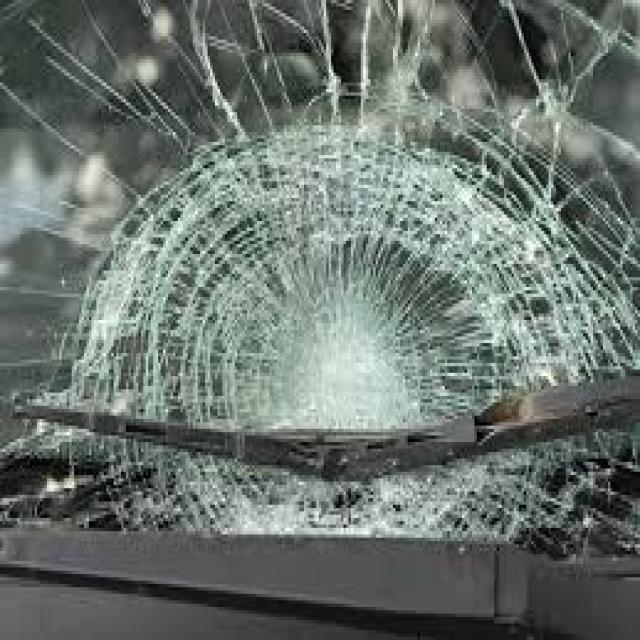damaged-windscreen: (2, 0, 640, 572)
